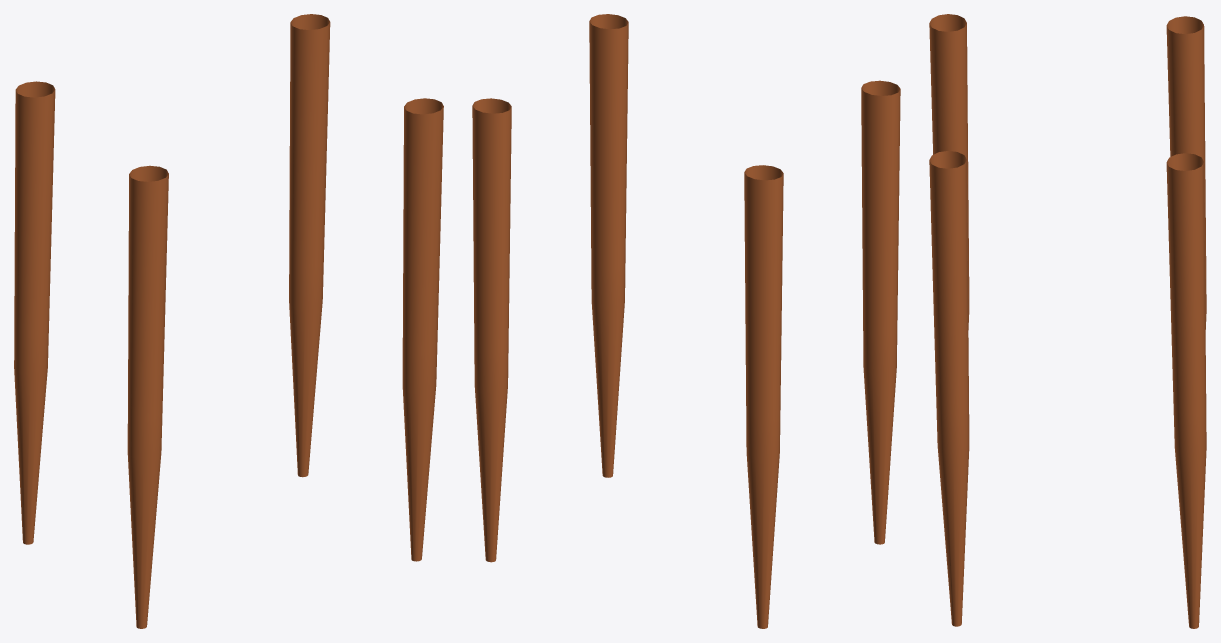
The model's file is sandalye_ayak (4).fbx.
3 renders of one model, left to right at view 1: azimuth 30°, elevation 25°; view 2: azimuth 150°, elevation 25°; view 3: azimuth 270°, elevation 25°, orthographic. The views are drawn at different scales.
Visible parts, largest first — view 1: Cylinder.002; view 2: Cylinder.002; view 3: Cylinder.002.
Boxes of the visible parts, left/top/right/bottom form: Cylinder.002: left=14, top=14, right=443, bottom=628; Cylinder.002: left=472, top=14, right=900, bottom=628; Cylinder.002: left=929, top=14, right=1206, bottom=628.
Bounding box in the file's own units: 1894 × 2646 × 1421.
Materials: 1 (1 with a texture image).
